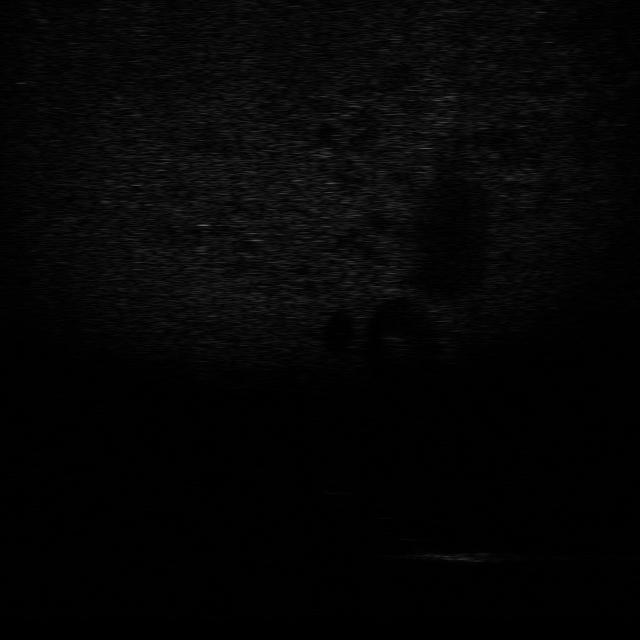ball: (319, 473, 356, 499)
metal bucket: (411, 547, 505, 566)
tyre: (370, 513, 441, 543)
